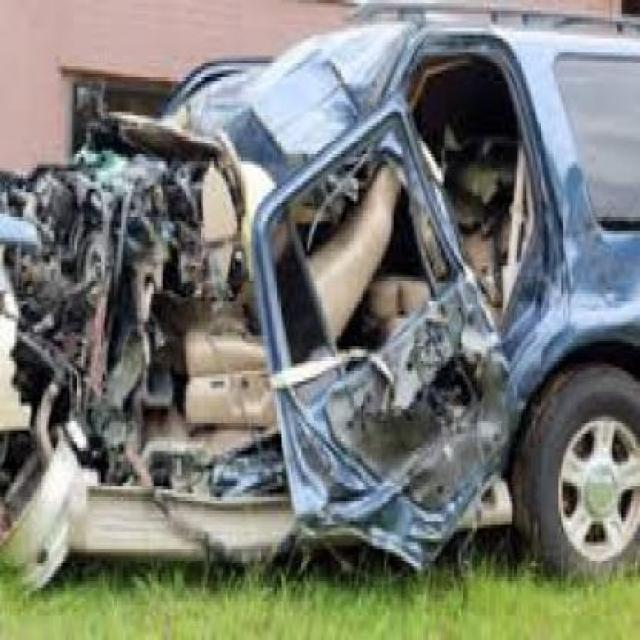accident: (1, 27, 640, 607)
